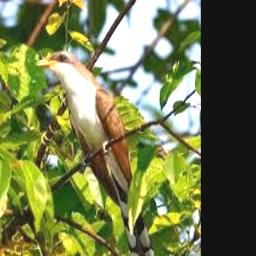Cuckoo: (36, 50, 154, 256)
